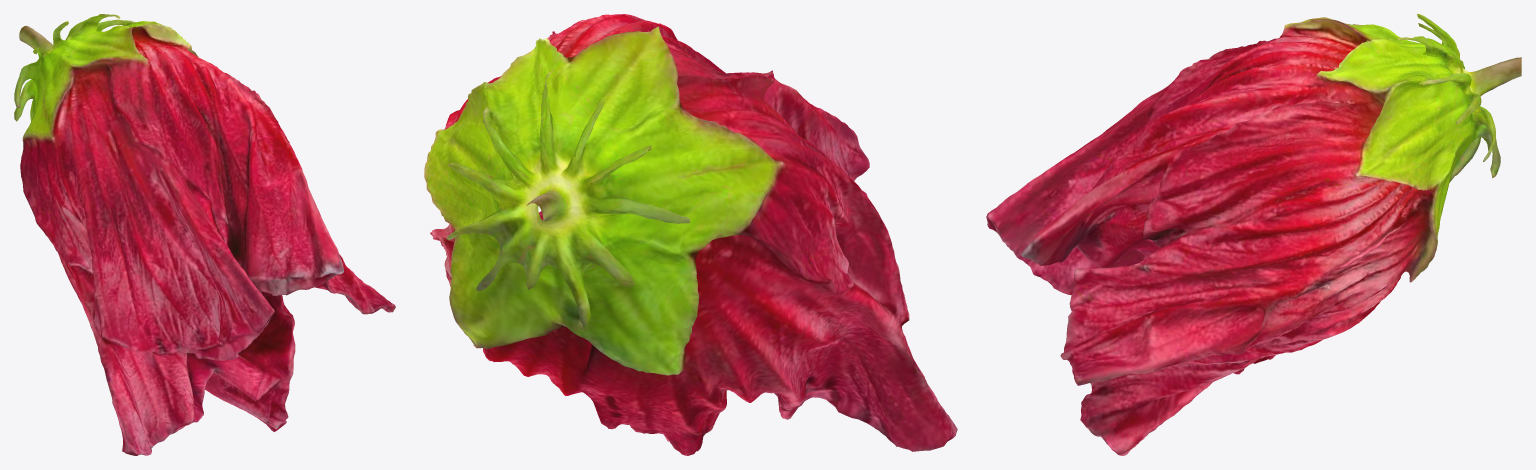
File: hibiscus_flow.glb
3 views of the same model, side by side, from view 1: azimuth 30°, elevation 25°; view 2: azimuth 150°, elevation 25°; view 3: azimuth 270°, elevation 25° (orthographic). The views are drawn at different scales.
Visible parts, largest first — view 1: Object_4; view 2: Object_4; view 3: Object_4.
Part boxes in pixels (box(x1,y1,x2,y2)): Object_4: box(14, 14, 395, 455); Object_4: box(424, 14, 957, 455); Object_4: box(986, 14, 1521, 455).
Bounding box in the file's own units: 0.0833 × 0.101 × 0.1209.
1 material, 1 textured.
